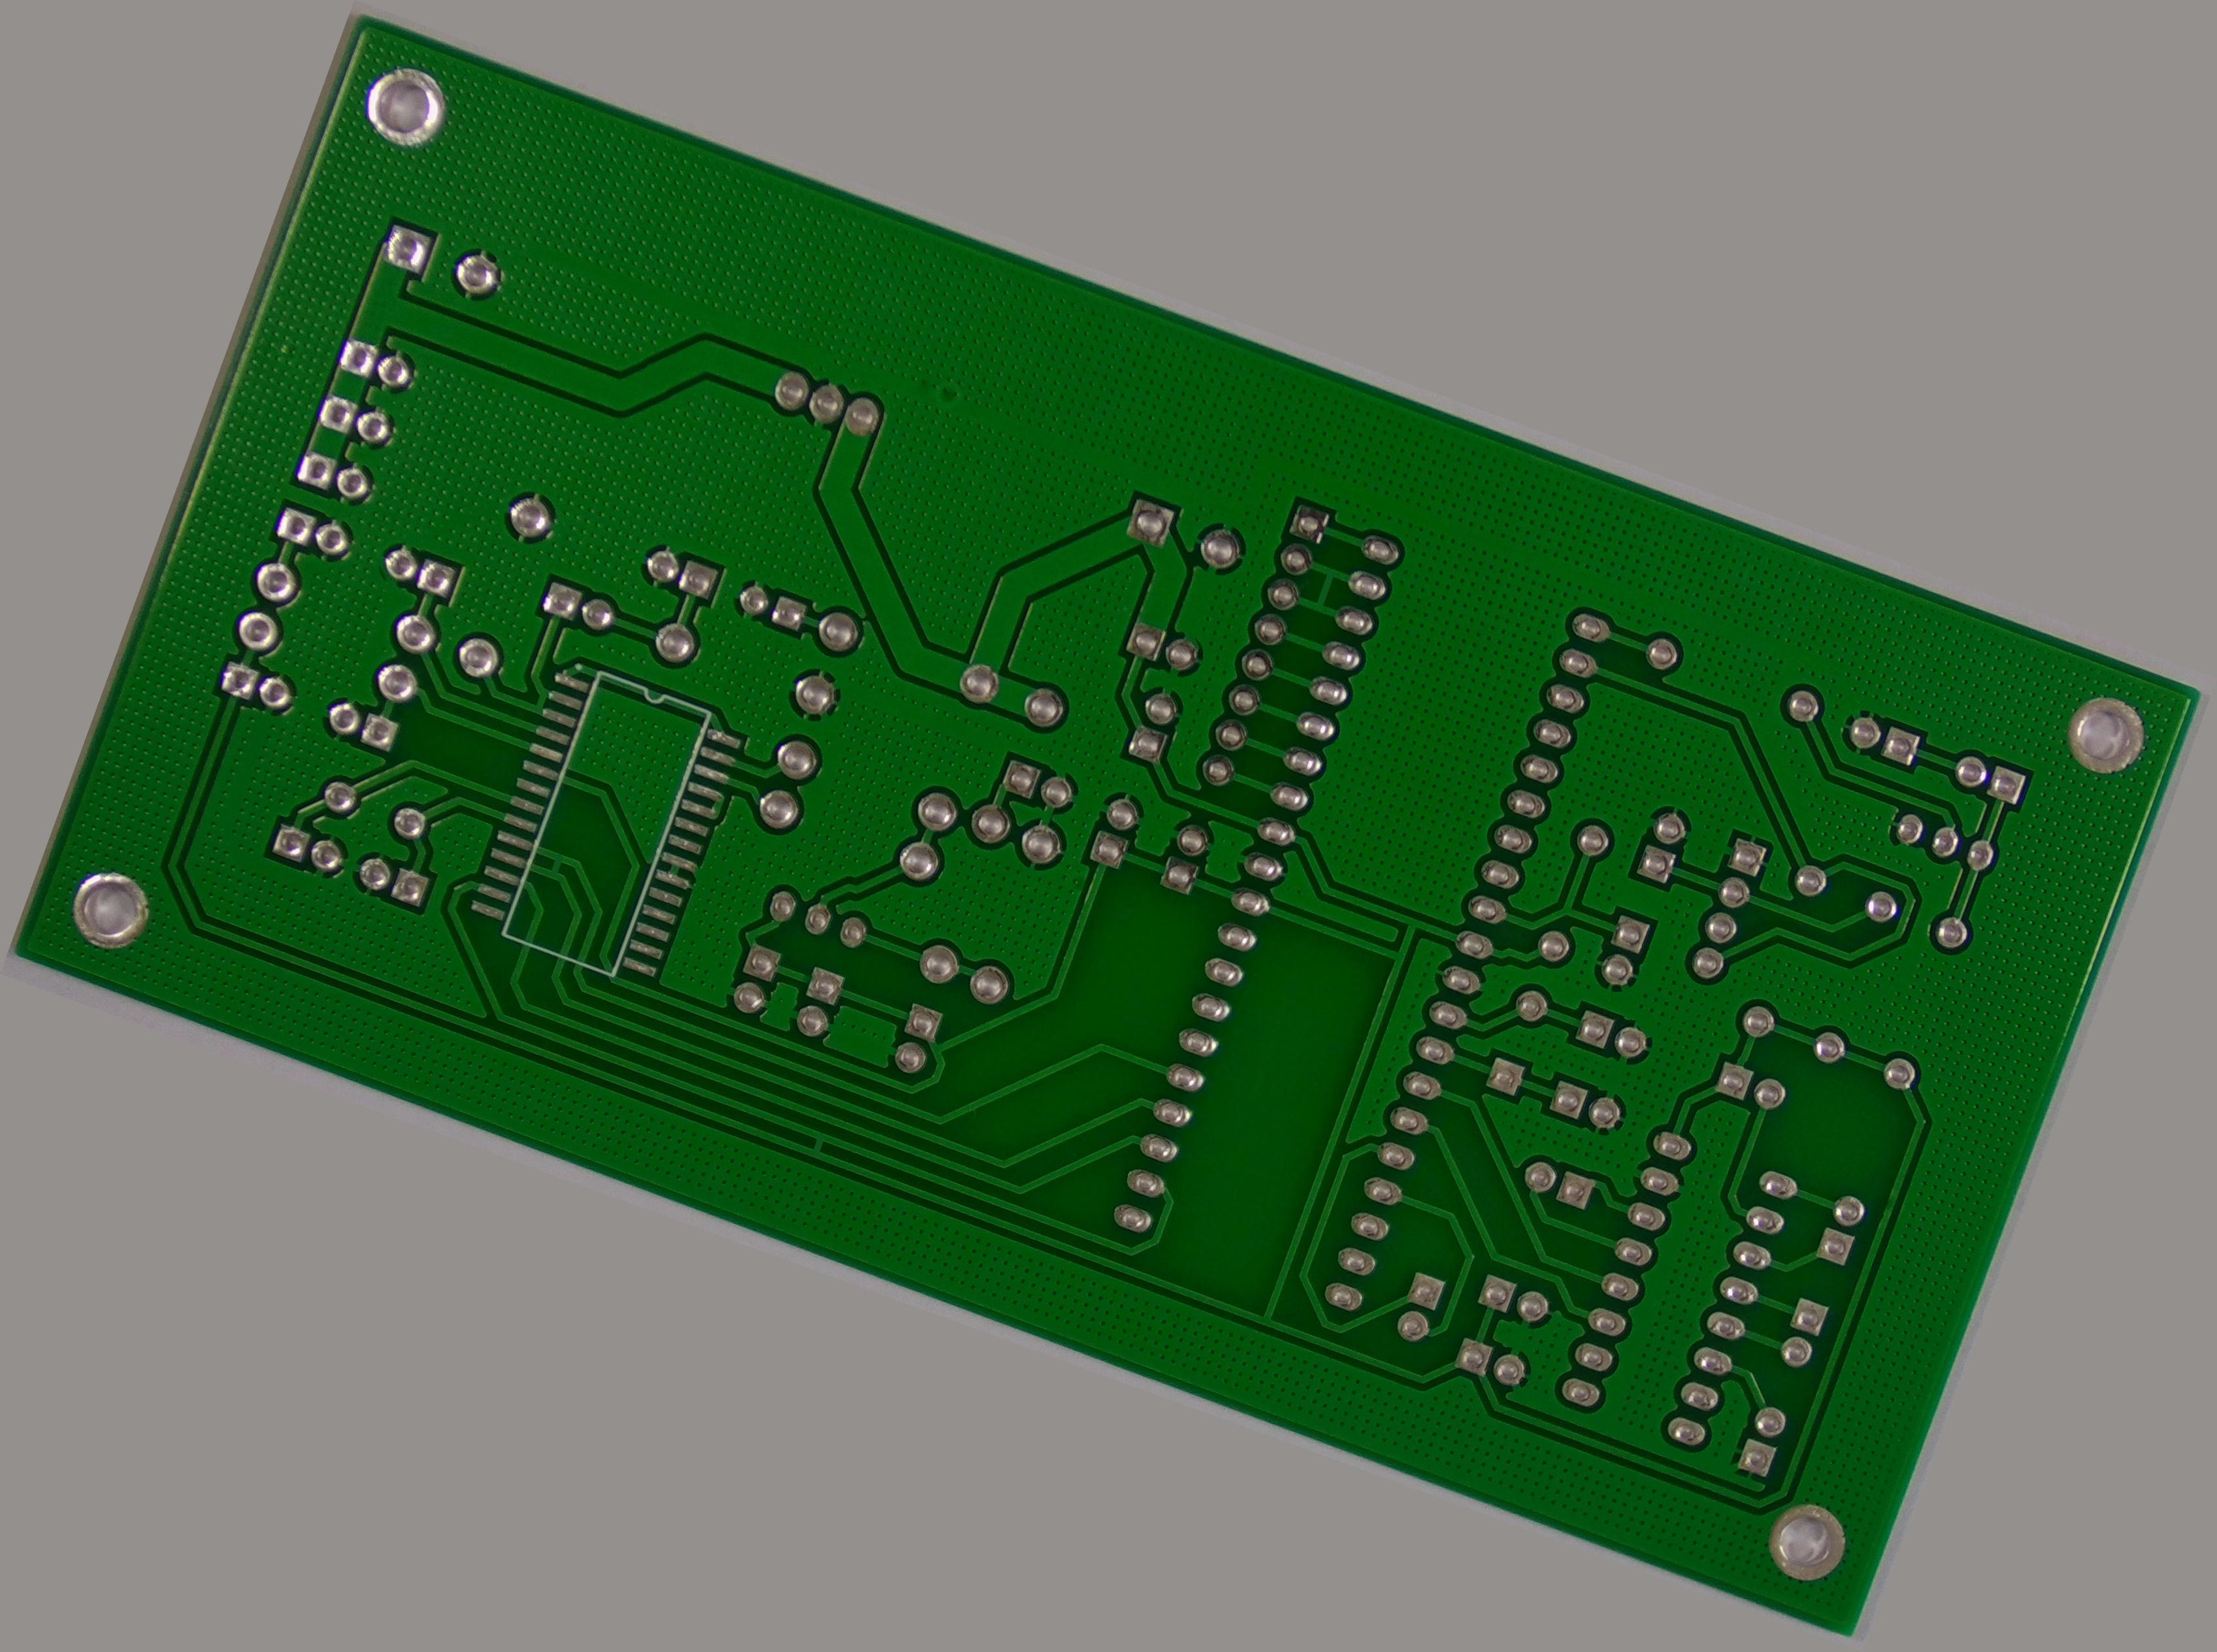short: (1296, 555, 1355, 621), (517, 677, 564, 724), (795, 1119, 843, 1164), (534, 845, 579, 892)
